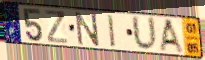5: (22, 7, 44, 43)
A: (158, 18, 187, 56)
I: (107, 13, 118, 49)
N: (74, 11, 101, 47)
U: (130, 14, 159, 53)
Z: (44, 9, 70, 45)
